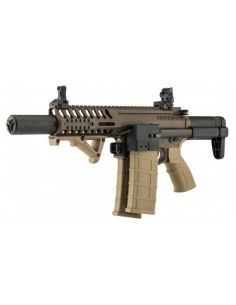Arma Real: (5, 84, 229, 218)
